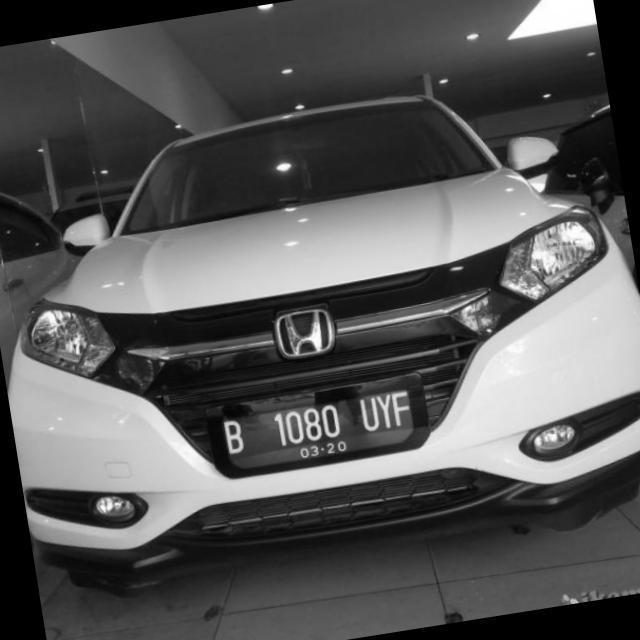0: (284, 410, 306, 447), (322, 406, 342, 442)
1: (273, 413, 289, 450)
8: (301, 407, 324, 445)
B: (222, 419, 249, 458)
F: (392, 392, 413, 432)
U: (356, 396, 382, 434)
Y: (376, 394, 397, 429)
